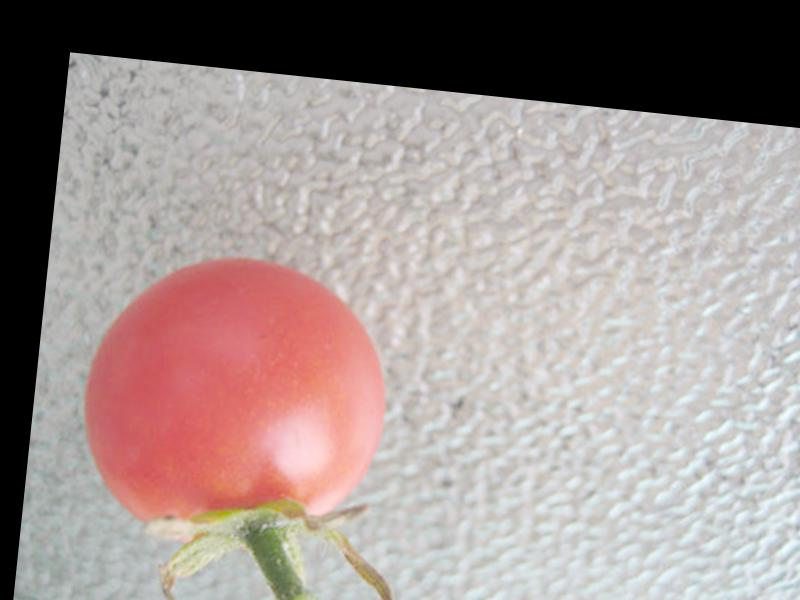Tomato: (74, 241, 403, 547)
